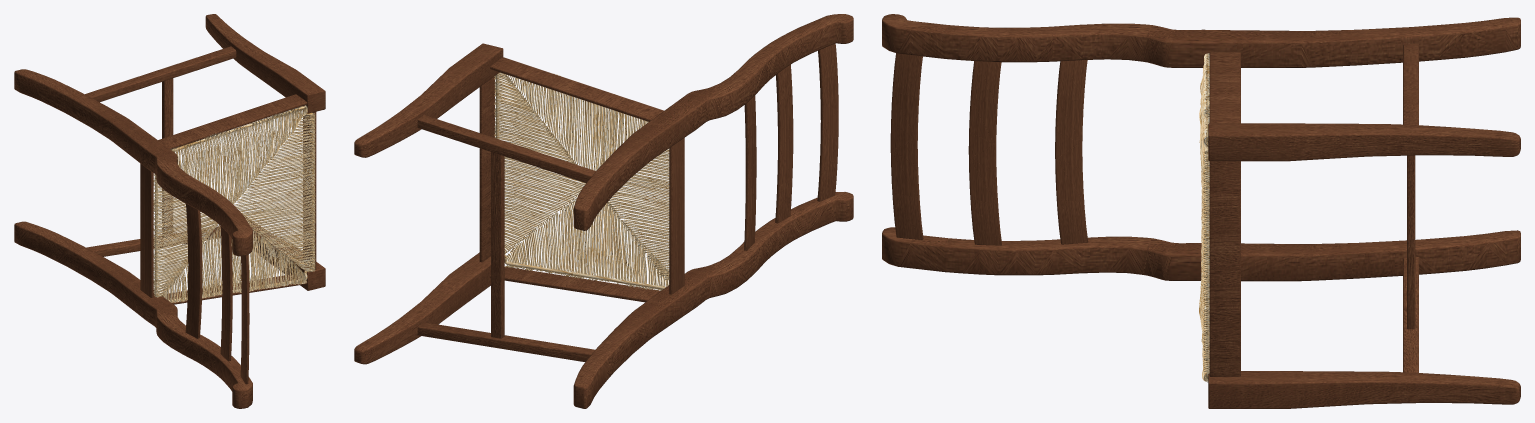
File: Tiferno Mobili Chair 2504 N220624.obj
3 renders of one model, left to right at view 1: azimuth 30°, elevation 25°; view 2: azimuth 150°, elevation 25°; view 3: azimuth 270°, elevation 25°, orthographic. The views are drawn at different scales.
Visible parts, largest first — view 1: Box019, Line047_Retopo, Object002, Object008, Object005, Object007, Object006, Line051, Object001, Object003, Object004; view 2: Box019, Line047_Retopo, Object006, Object002, Object003, Object007, Object005, Object004, Object001, Object008, Line051; view 3: Box019, Object001, Object007, Object008, Object006, Line047_Retopo, Object002, Object003, Line051.
Boxes of the visible parts, x1=… form: Box019: x1=14, y1=14, x2=325, y2=408; Line047_Retopo: x1=153, y1=105, x2=315, y2=302; Object002: x1=158, y1=94, x2=307, y2=149; Object008: x1=185, y1=204, x2=202, y2=338; Object005: x1=140, y1=163, x2=153, y2=297; Object007: x1=220, y1=226, x2=232, y2=361; Object006: x1=240, y1=255, x2=249, y2=384; Line051: x1=154, y1=106, x2=314, y2=301; Object001: x1=303, y1=111, x2=316, y2=269; Object003: x1=86, y1=226, x2=220, y2=256; Object004: x1=167, y1=274, x2=307, y2=304; Box019: x1=354, y1=14, x2=853, y2=408; Line047_Retopo: x1=494, y1=73, x2=669, y2=290; Object006: x1=817, y1=43, x2=838, y2=201; Object002: x1=490, y1=57, x2=663, y2=121; Object003: x1=417, y1=322, x2=594, y2=361; Object007: x1=775, y1=64, x2=793, y2=223; Object005: x1=669, y1=138, x2=684, y2=294; Object004: x1=490, y1=267, x2=660, y2=302; Object001: x1=479, y1=77, x2=494, y2=262; Object008: x1=744, y1=95, x2=756, y2=250; Line051: x1=496, y1=72, x2=669, y2=289; Box019: x1=882, y1=14, x2=1520, y2=408; Object001: x1=1209, y1=161, x2=1240, y2=376; Object007: x1=968, y1=61, x2=1001, y2=245; Object008: x1=1055, y1=60, x2=1088, y2=244; Object006: x1=890, y1=53, x2=923, y2=240; Line047_Retopo: x1=1199, y1=53, x2=1209, y2=382; Object002: x1=1209, y1=52, x2=1240, y2=123; Object003: x1=1403, y1=257, x2=1418, y2=372; Line051: x1=1206, y1=61, x2=1209, y2=379.
Bounding box in the file's own units: 0.4842 × 0.4433 × 0.9358.
2 materials, 2 textured.
